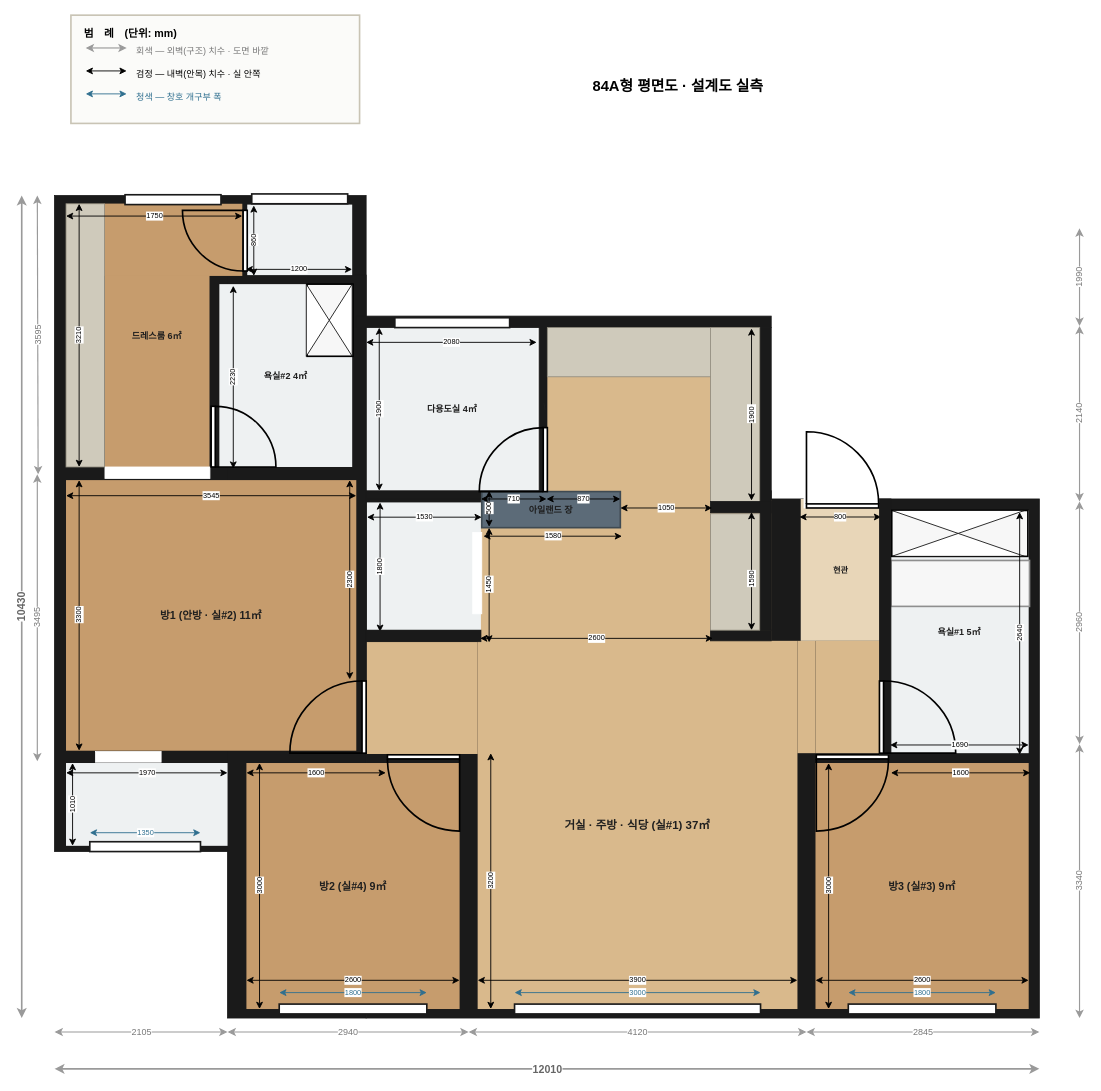
The diagram is 1101 pixels wide and 1091 high, and some of its shapes have lost their labels. The shapes that lost their labels are listed below. From the top down, each one's centre as x and y in pixels, then its label:
At point 299,239: "실외기실".
At point 649,352: "주방 선반".
At point 424,566: "팬트리".
At point 735,571: "냉장고장".
At point 146,804: "발코니 1970×1010".
